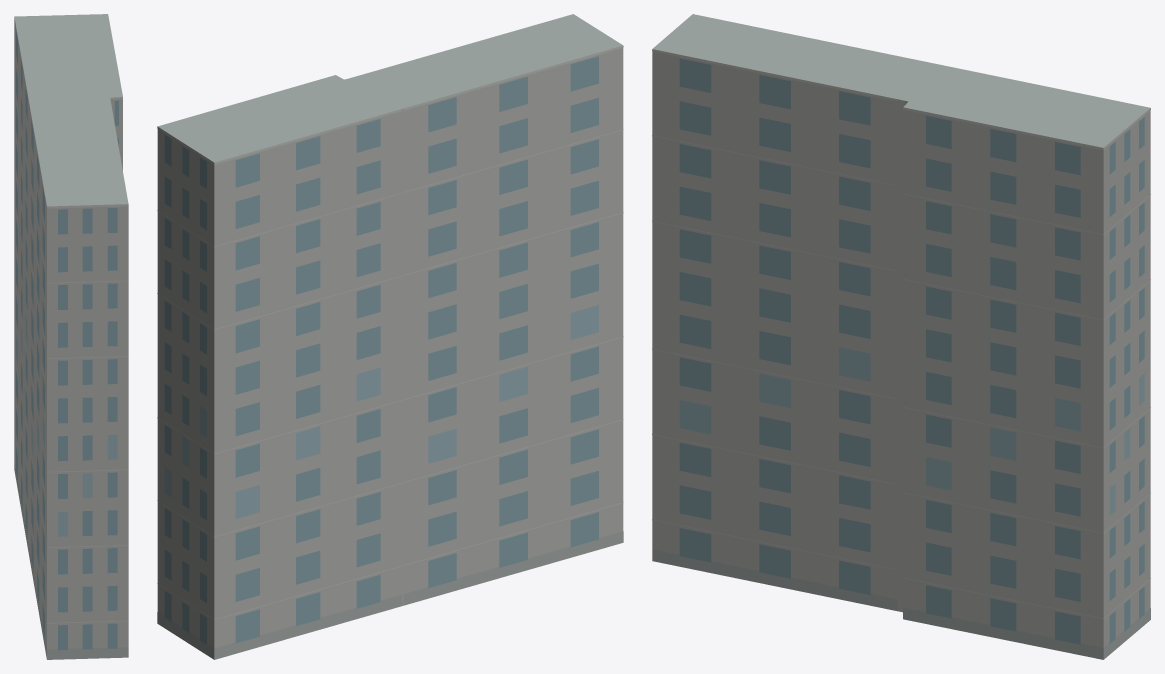
The model's file is survey-upis-32521319.glb.
3 views of the same model, side by side, from view 1: azimuth 30°, elevation 25°; view 2: azimuth 150°, elevation 25°; view 3: azimuth 270°, elevation 25° (orthographic). The views are drawn at different scales.
Parts seen in each view (by area): view 1: survey-upis-32521319.tmp; view 2: survey-upis-32521319.tmp; view 3: survey-upis-32521319.tmp.
Boxes of the visible parts, box(x1,y1,x2,y2) form: survey-upis-32521319.tmp: box(14, 14, 128, 659); survey-upis-32521319.tmp: box(157, 14, 623, 659); survey-upis-32521319.tmp: box(652, 14, 1150, 659).
Size of the model in its own units: 29.02 by 51.7 by 45.65.
